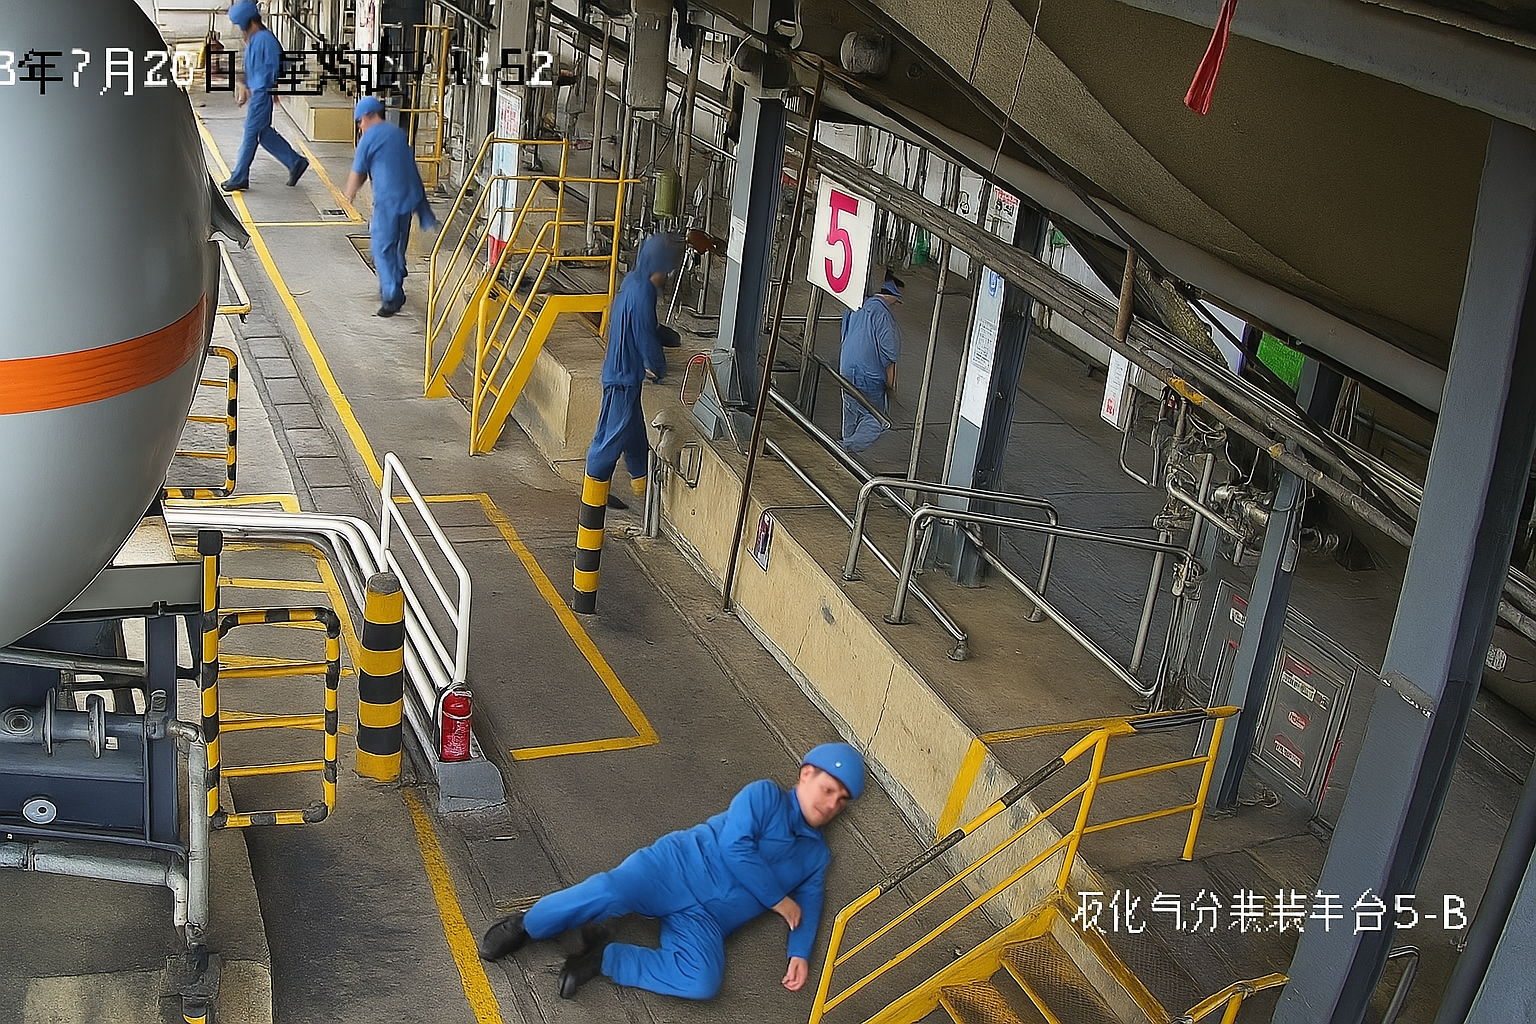trip: (450, 719, 880, 1009)
